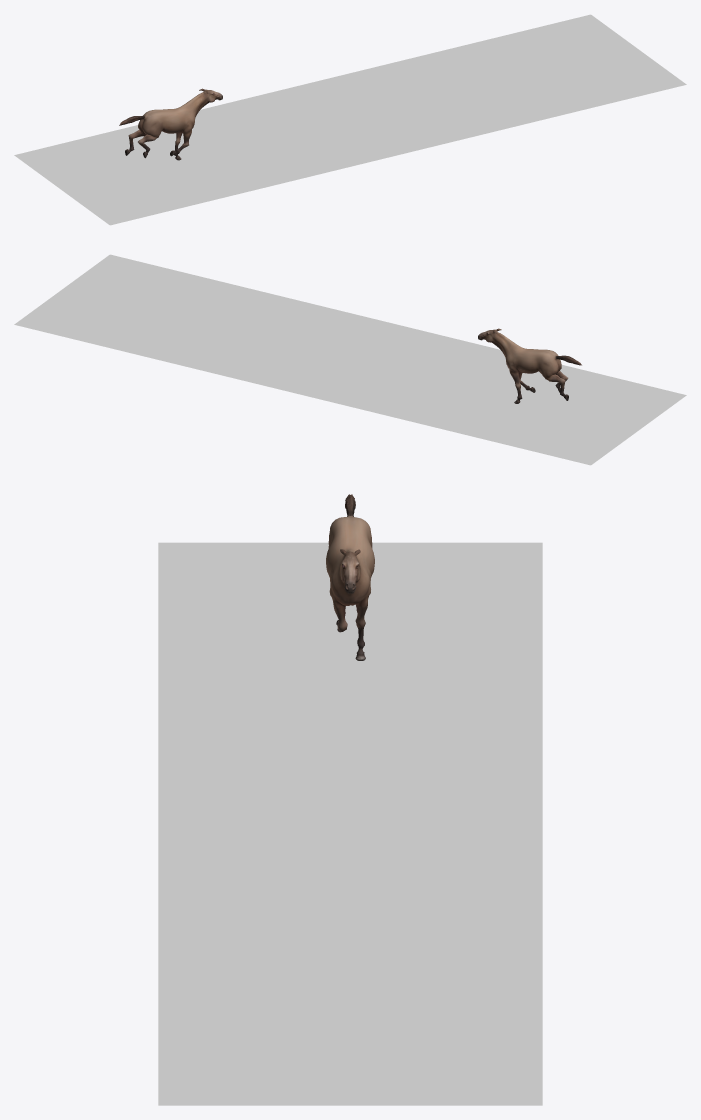
The model's file is horse_run.glb.
The picture shows the model from 3 angles, top to bottom: view 1: azimuth 30°, elevation 25°; view 2: azimuth 150°, elevation 25°; view 3: azimuth 270°, elevation 25°; orthographic projection. The views are drawn at different scales.
Parts seen in each view (by area): view 1: pPlaneShape1_2_0, polySurface2Shape; view 2: pPlaneShape1_2_0, polySurface2Shape; view 3: pPlaneShape1_2_0, polySurface2Shape.
Boxes of the visible parts, box(x1,y1,x2,y2) form: pPlaneShape1_2_0: box(14, 14, 686, 225); polySurface2Shape: box(119, 88, 222, 160); pPlaneShape1_2_0: box(14, 254, 686, 465); polySurface2Shape: box(478, 328, 581, 403); pPlaneShape1_2_0: box(158, 542, 542, 1105); polySurface2Shape: box(326, 494, 374, 660).
Size of the model in its own units: 174 by 18.93 by 50.16.
2 materials, 1 textured.
